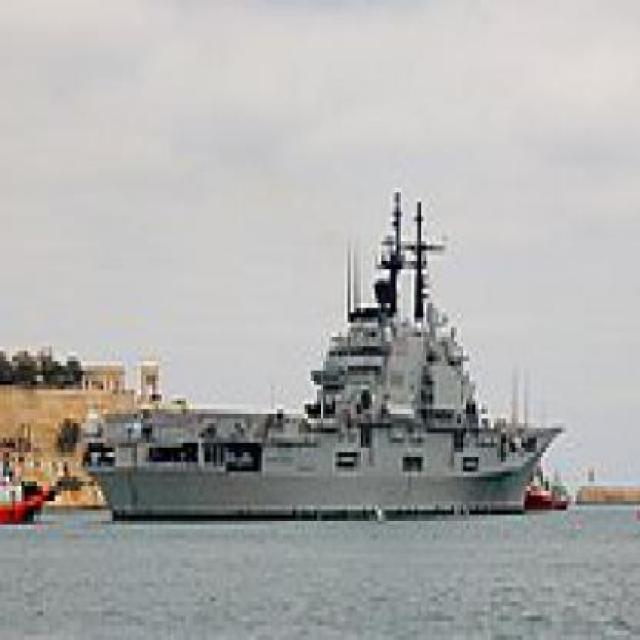warship2: (74, 179, 574, 531)
